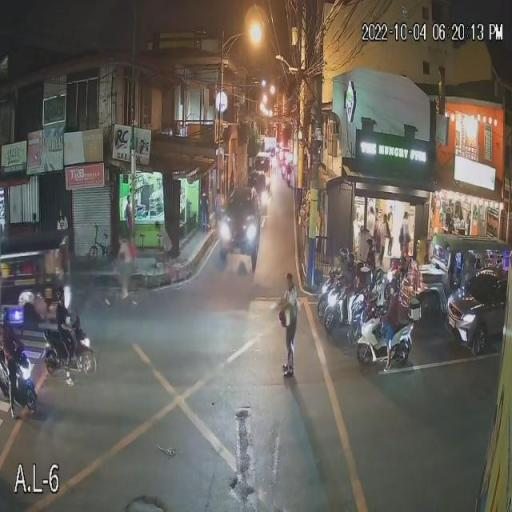helmet: (388, 277, 400, 300), (0, 310, 13, 331), (345, 255, 357, 272), (56, 288, 66, 306), (375, 271, 384, 287), (340, 246, 347, 263)
motorcycle: (39, 329, 106, 381), (0, 349, 42, 416), (362, 313, 409, 360), (324, 285, 349, 329), (318, 273, 340, 301), (348, 290, 368, 318)
rider: (0, 311, 25, 415), (54, 290, 73, 376), (386, 281, 401, 366), (346, 252, 357, 289), (373, 269, 382, 305), (337, 247, 346, 279)
